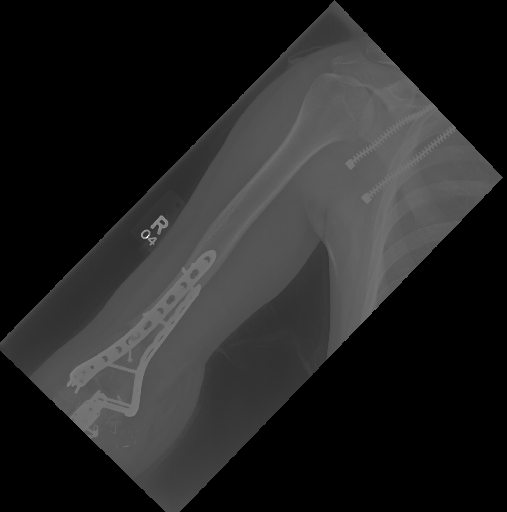implant: (70, 246, 224, 417)
